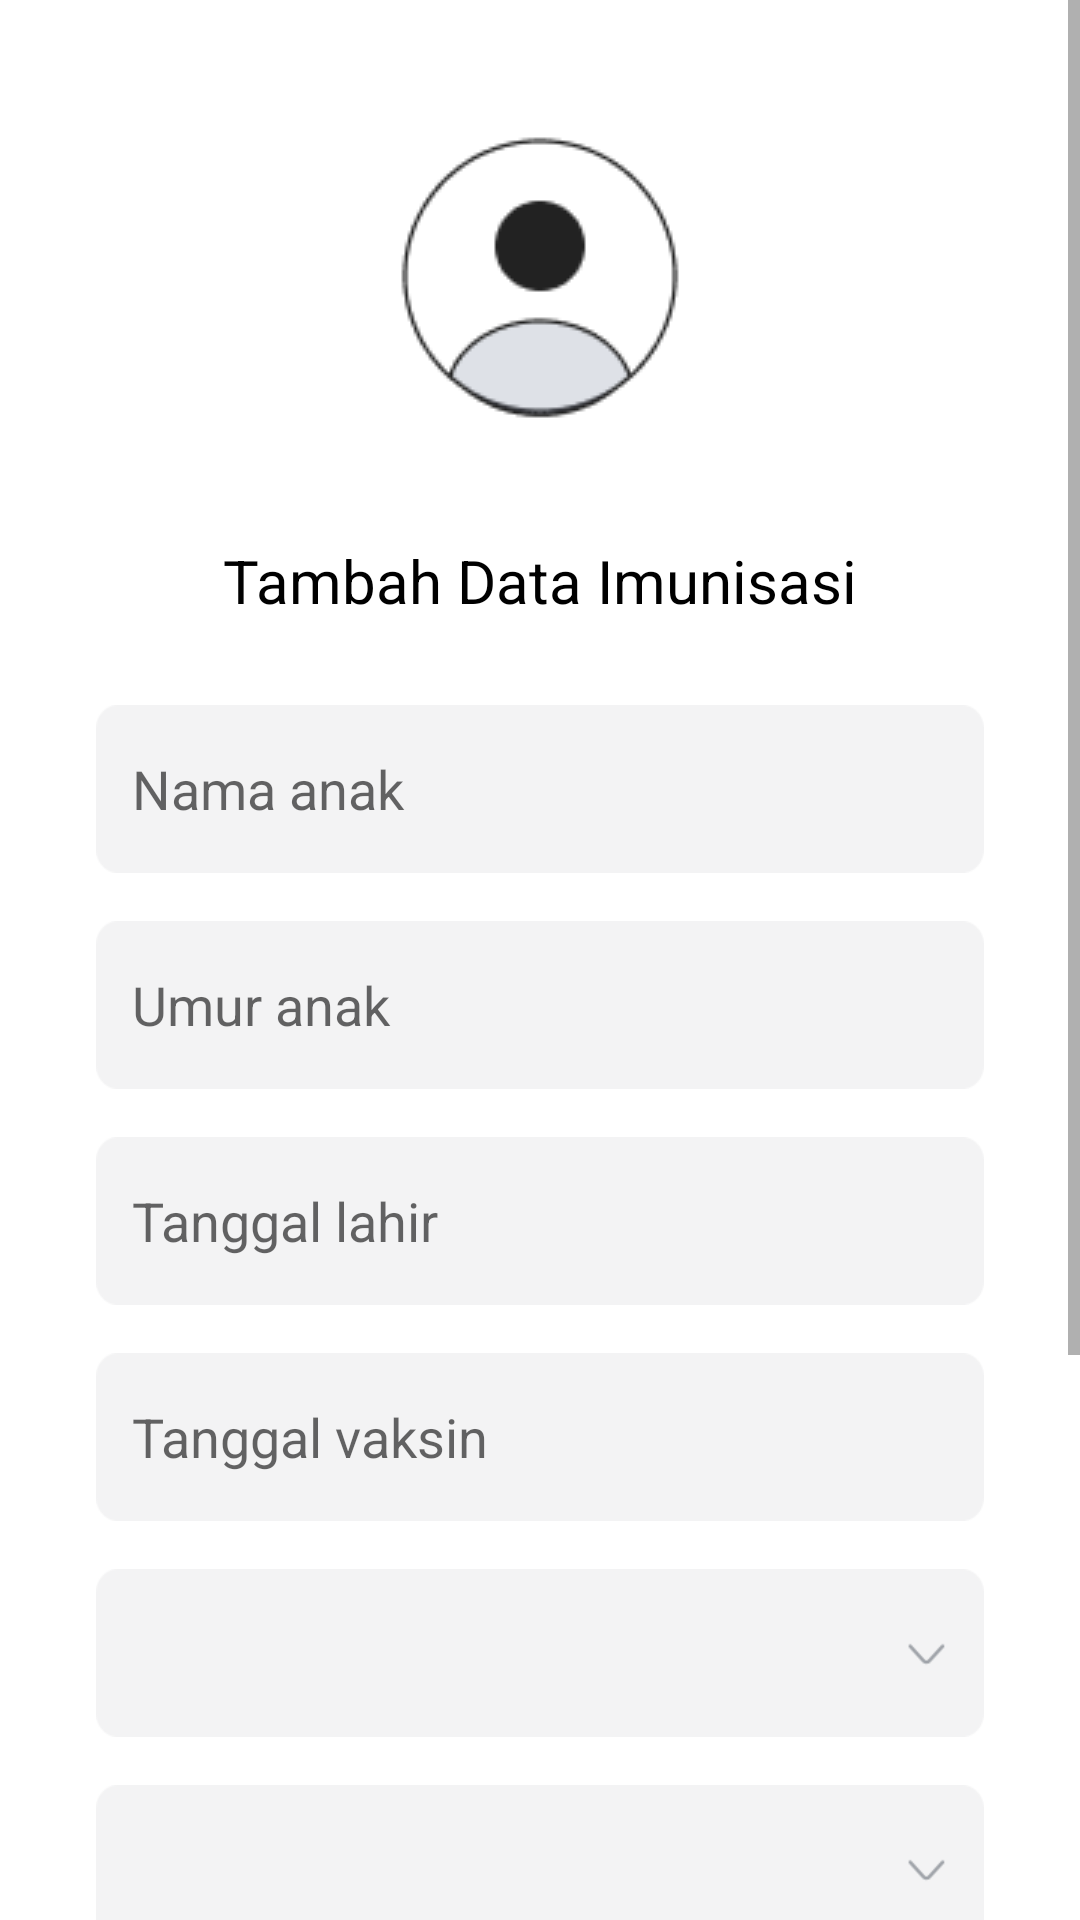

Point at icon controls on the screen. Image size 1080px×1920px, points as point (x, y).
profil: point (540, 277)
